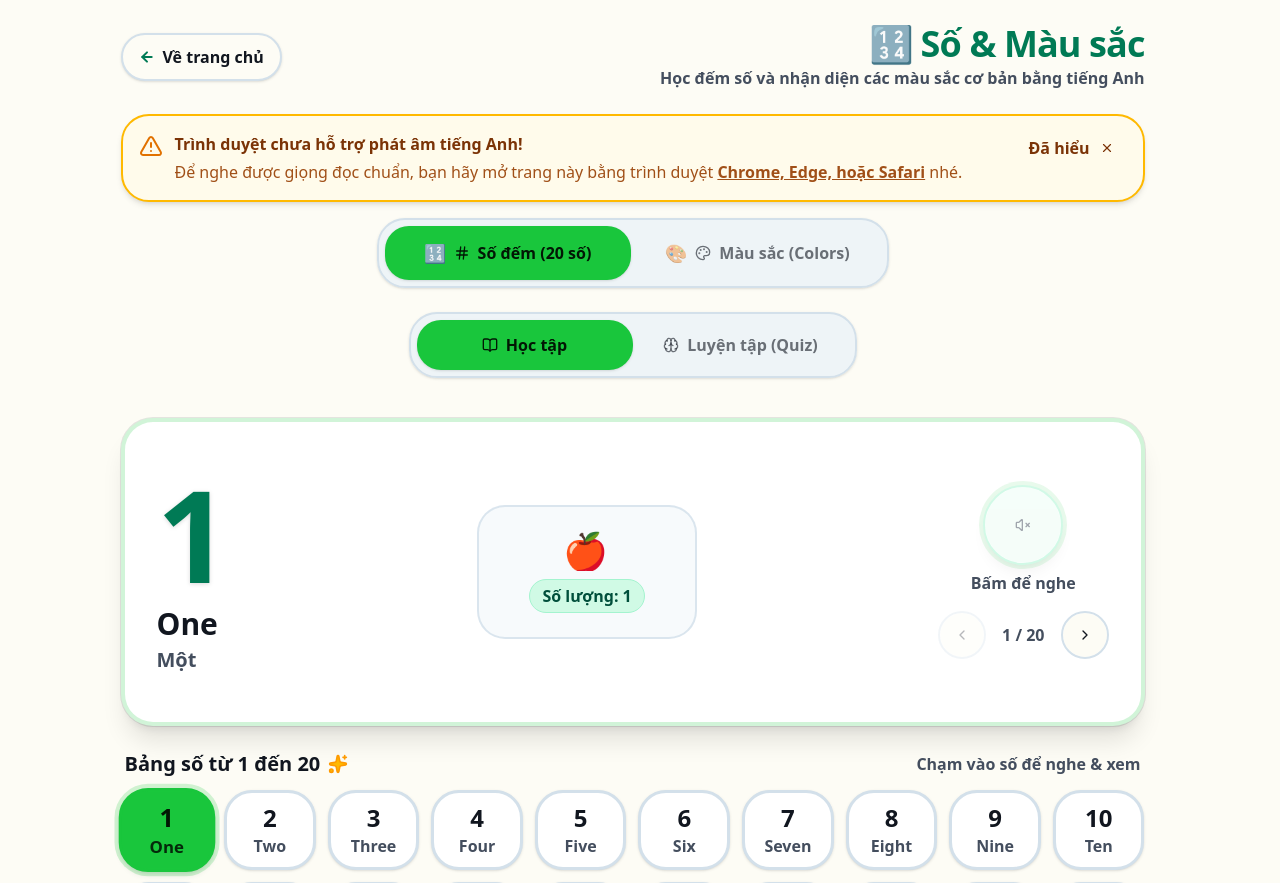
Test: Numbers & Colors Game Page (app/games/numbers-colors/page.tsx) › renders SpeechUnsupportedBanner when speech is unsupported and allows dismissing it
Check: the text "Trình duyệt chưa hỗ trợ phát âm tiếng Anh!" is shown, box [174,133,522,155]
Click the button "Đã hiểu" at (1071, 148), box [1016,132,1126,164]
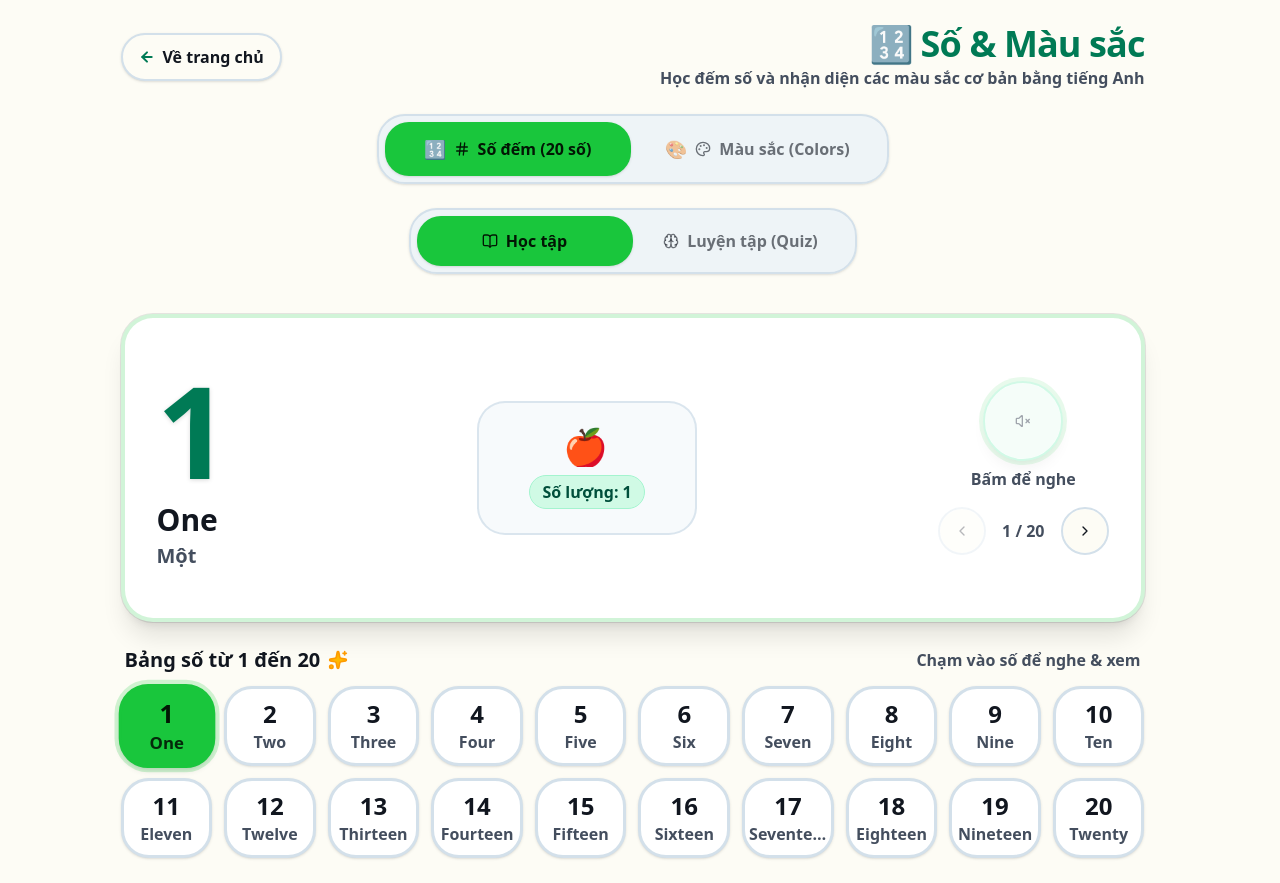
Check: the text "Trình duyệt chưa hỗ trợ phát âm" is gone
